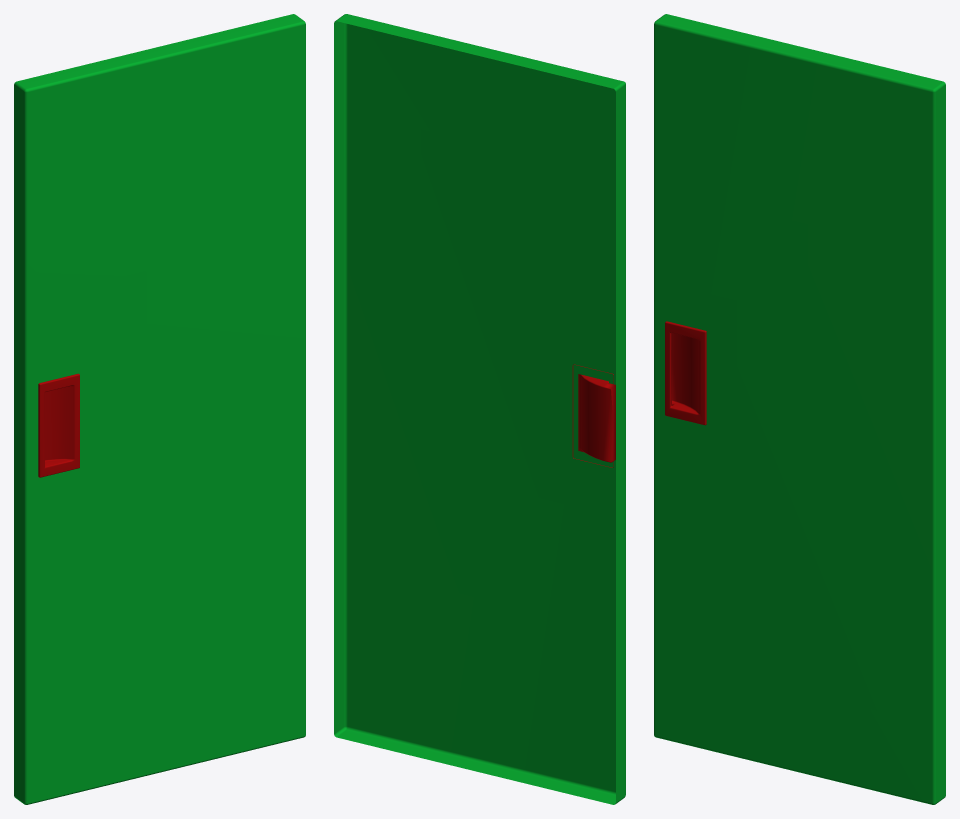
Rendered from SM_door_narrow_leaf.fbx.
3 renders of one model, left to right at view 1: azimuth 30°, elevation 25°; view 2: azimuth 150°, elevation 25°; view 3: azimuth 330°, elevation 25°, orthographic.
Visible parts, largest first — view 1: SM_door_narrow_leaf; view 2: SM_door_narrow_leaf; view 3: SM_door_narrow_leaf.
Boxes of the visible parts, box(x1,y1,x2,y2) form: SM_door_narrow_leaf: box(14, 14, 305, 804); SM_door_narrow_leaf: box(334, 14, 625, 804); SM_door_narrow_leaf: box(654, 14, 945, 804).
Bounding box in the file's own units: 0.8763 × 2.13 × 0.0675.
